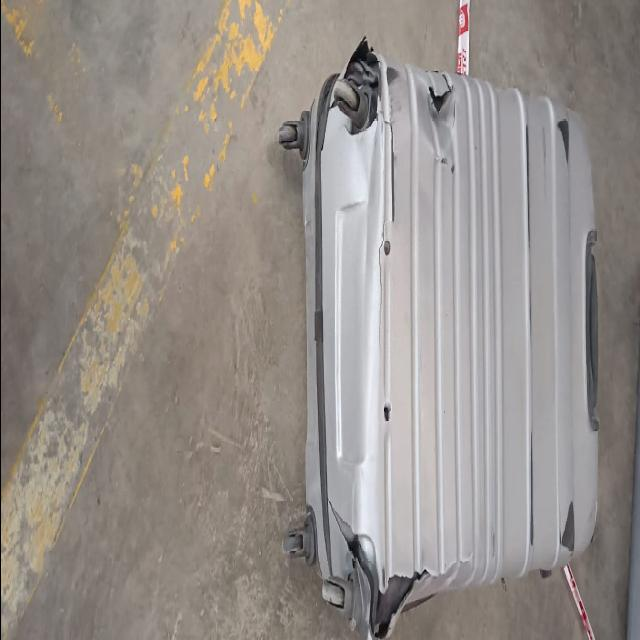Damage-bag: (333, 511, 425, 639), (332, 39, 381, 133), (429, 86, 451, 117), (385, 67, 399, 86), (391, 136, 392, 219), (384, 111, 389, 122)
